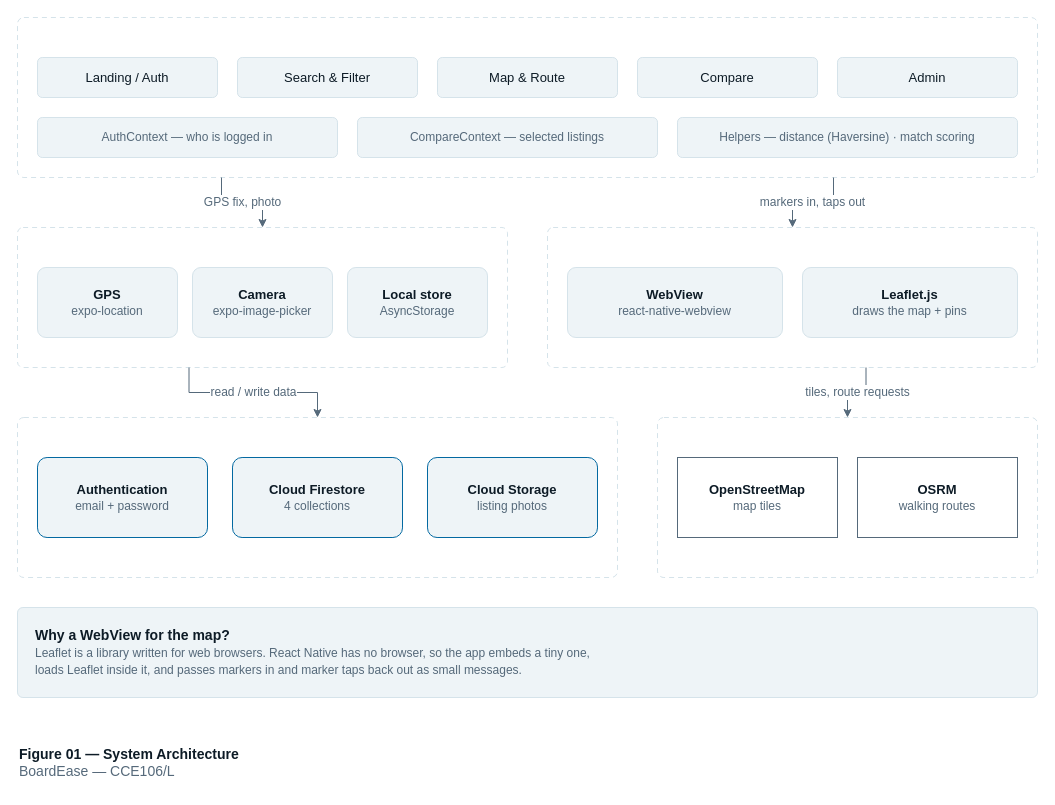
Image size: 1055x805. Some labels were removed from this diagram. Here are the shapes that lost their labels. From the top down, the box of each, then its label:
(16, 16, 1038, 178): PRESENTATION — React Native (Expo), TypeScript
(16, 226, 508, 368): DEVICE CAPABILITIES
(546, 226, 1038, 368): EMBEDDED WEB LAYER
(16, 416, 618, 578): BACKEND — Firebase (no custom server)
(656, 416, 1038, 578): EXTERNAL SERVICES — free, no API key
